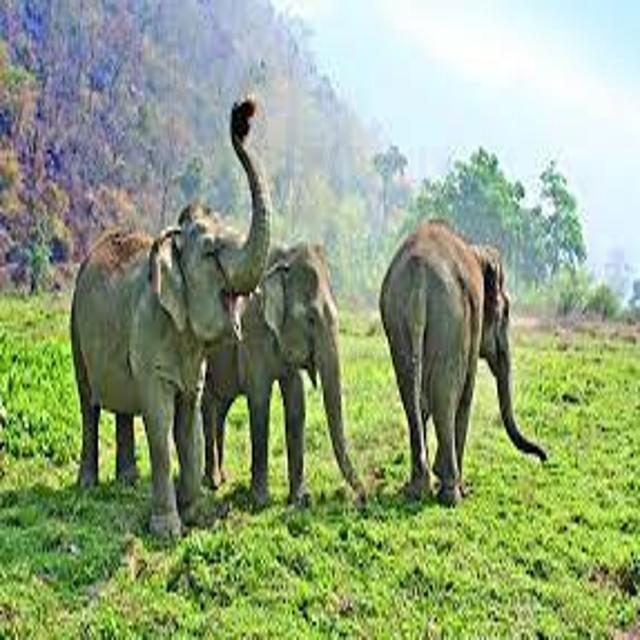elephant: (46, 83, 302, 554), (137, 208, 402, 541), (342, 196, 583, 542)
